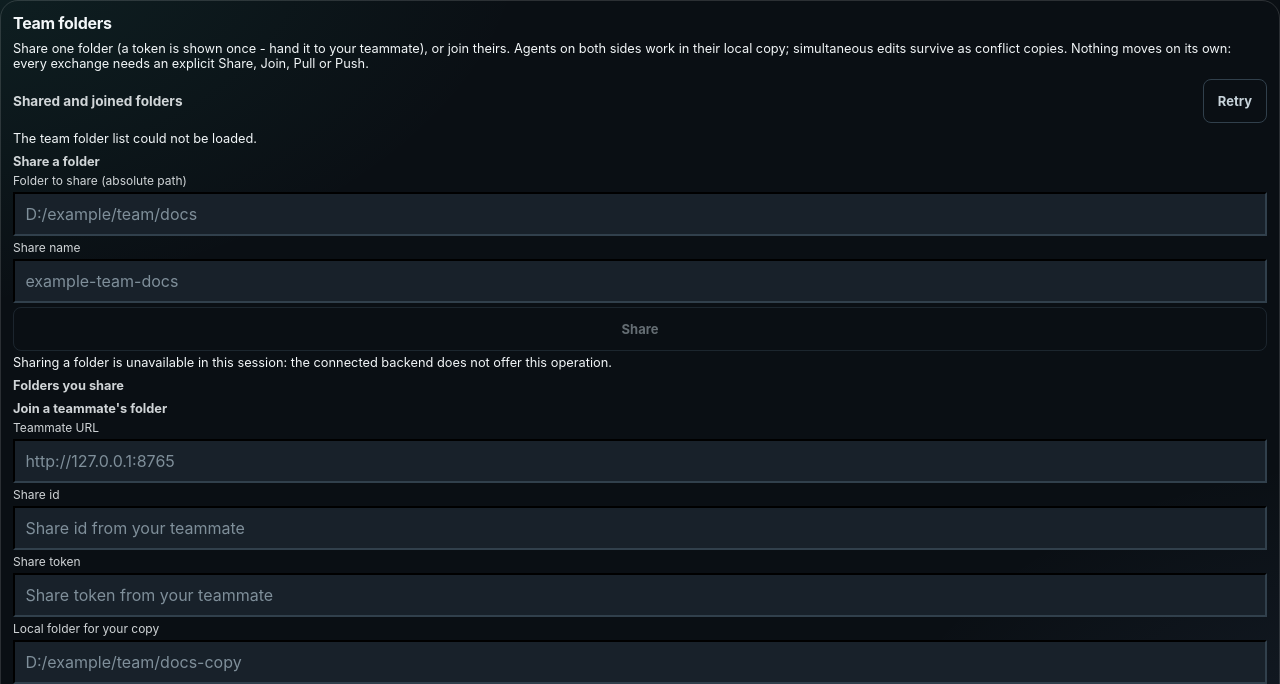
it: TeamFoldersPanel › reports a failed initial load instead of an empty list, and recovers on Retry
Expected: the text "The team folder list could not be loaded." is shown, x1=13 y1=131 x2=257 y2=146
Click the button "Retry" at (1235, 101), box x1=1203 y1=79 x2=1267 y2=123
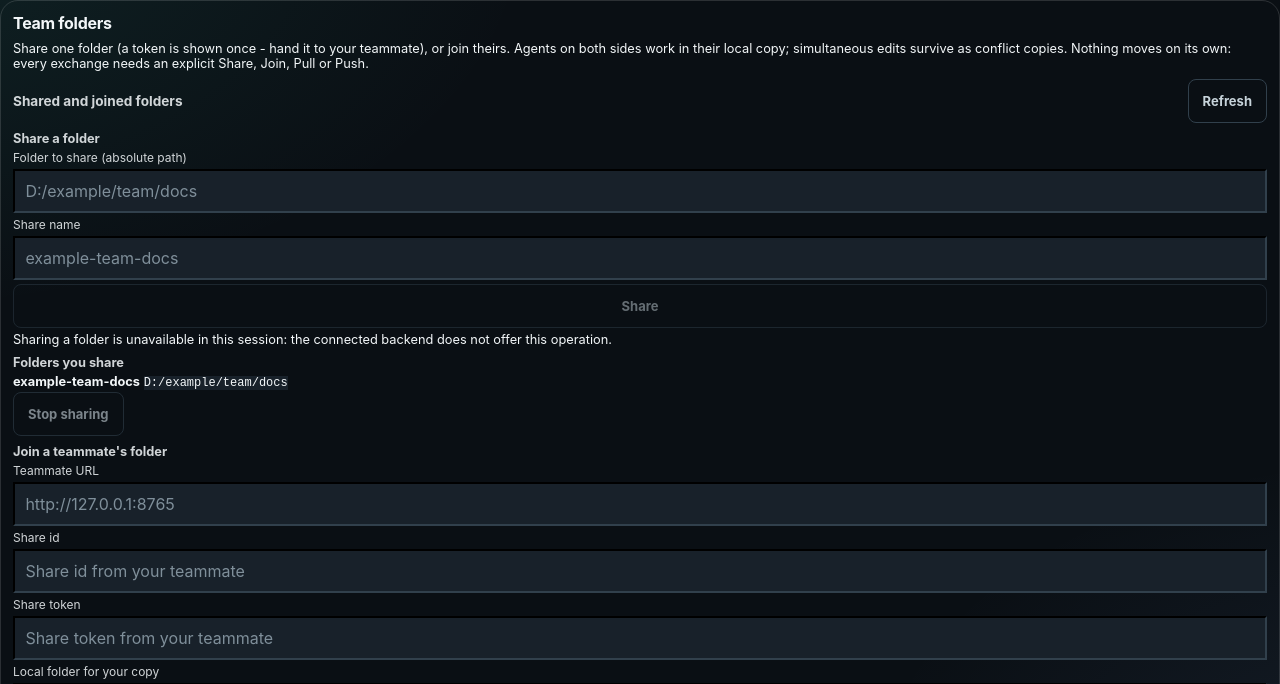
Expected: the text "example-team-docs" is shown, x1=13 y1=374 x2=140 y2=389
